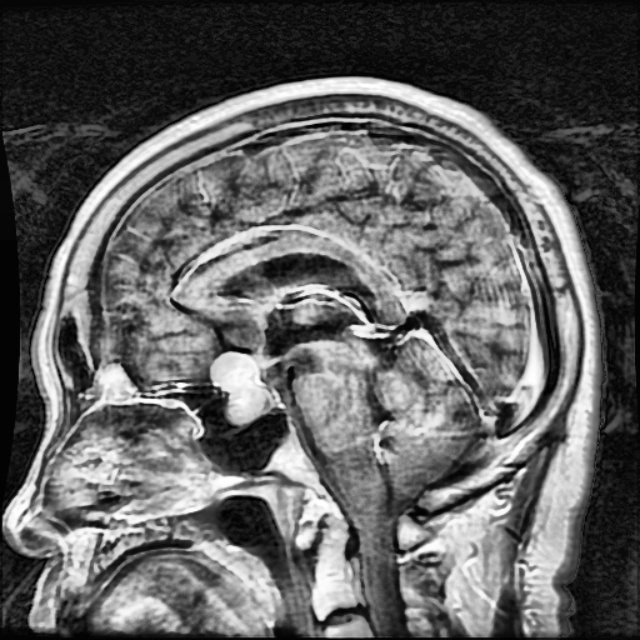Pituitary: (209, 352, 269, 422)
